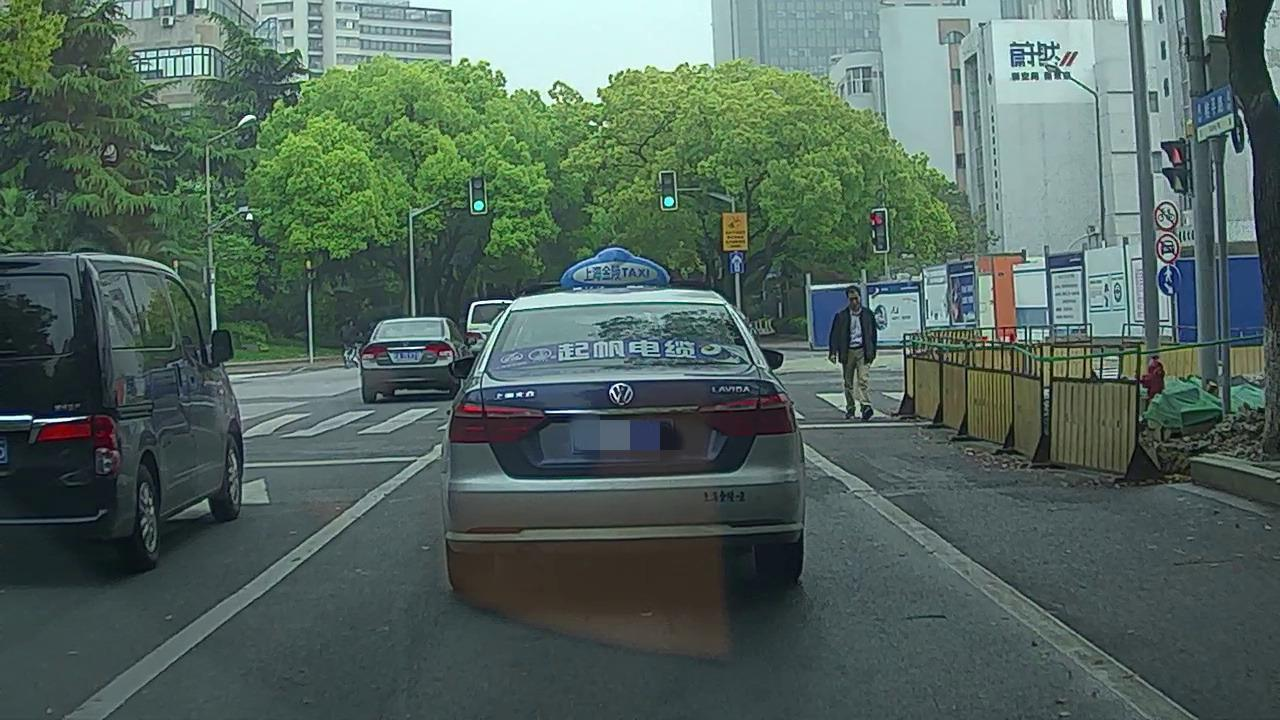traffic_light: (660, 170, 678, 210), (471, 176, 486, 214)
